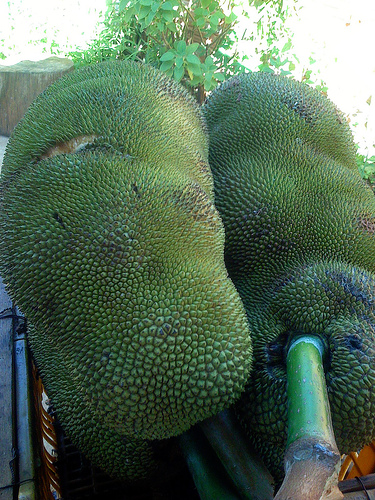jackfruit: (0, 57, 251, 440), (202, 67, 373, 481)
